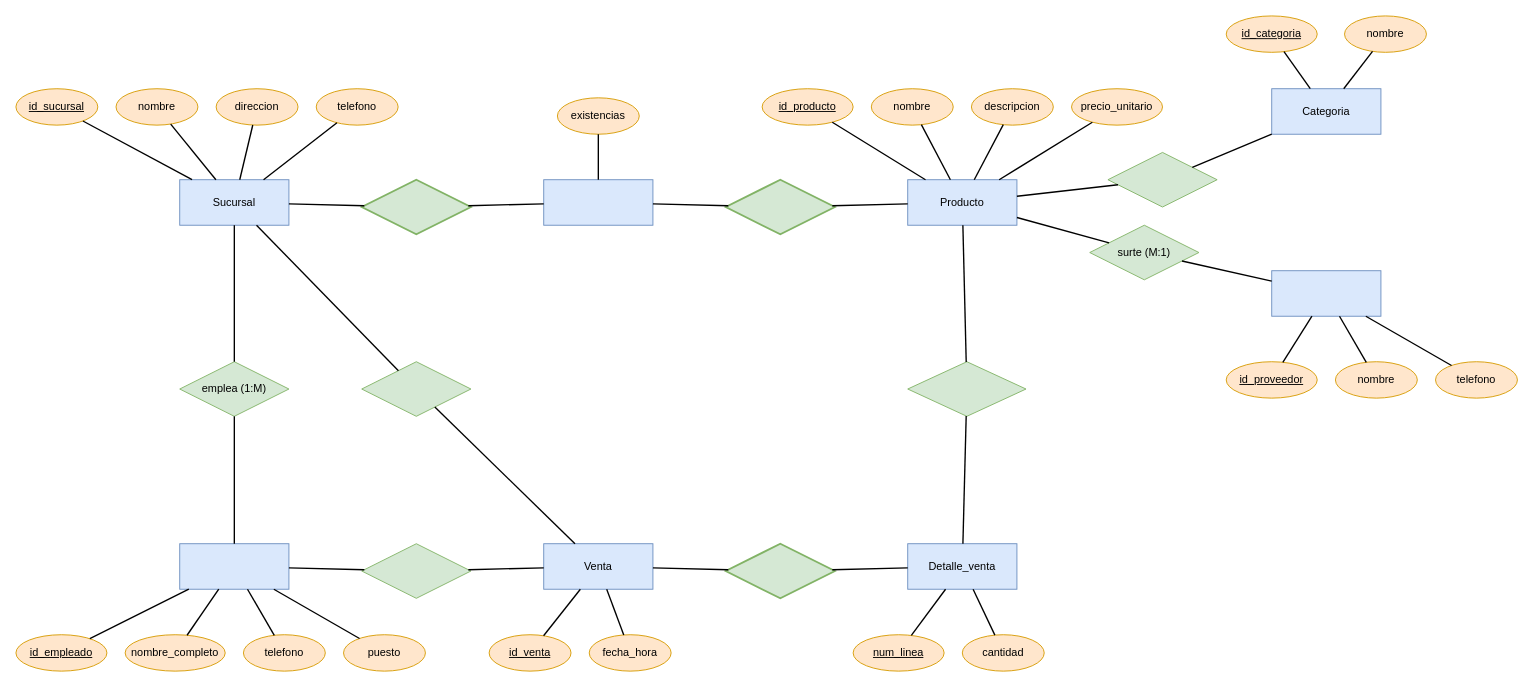
The diagram is 1533 pixels wide and 687 high, and some of its shapes have lost their labels. Here are the shapes that lost their labels. From the top down, the box of each, then its label:
(1107, 152, 1217, 207): pertenece (M:1)
(360, 178, 471, 235): tiene_inv (1:M)
(543, 179, 653, 225): Inventario
(724, 178, 835, 235): de_inv (1:M)
(1271, 270, 1381, 316): Proveedor
(361, 361, 471, 416): registra (1:M)
(907, 361, 1026, 416): corresponde (M:1)
(179, 543, 289, 589): Empleado
(361, 543, 471, 598): atiende (1:M)
(724, 542, 835, 599): contiene (1:M)
